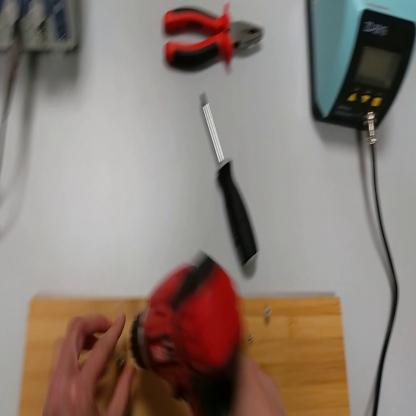electric screwdriver: (127, 246, 244, 416)
hand: (44, 305, 134, 414), (234, 355, 287, 415)
oscilloscope: (2, 1, 81, 60)
pliers: (163, 6, 266, 76)
screwdriver-: (201, 90, 259, 276)
welder station: (304, 1, 416, 132)
working area: (20, 287, 355, 415)
